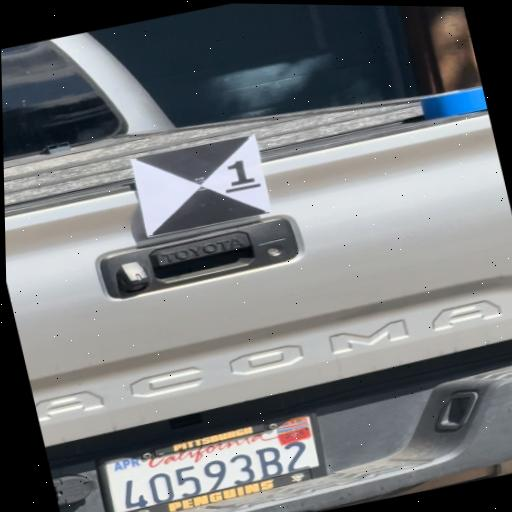target1: (129, 133, 271, 238)
